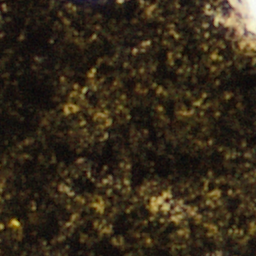cement_matrix: (0, 0, 255, 255), (153, 198, 165, 208)
gravel_crushed_stones: (215, 0, 255, 47), (154, 199, 164, 207)
